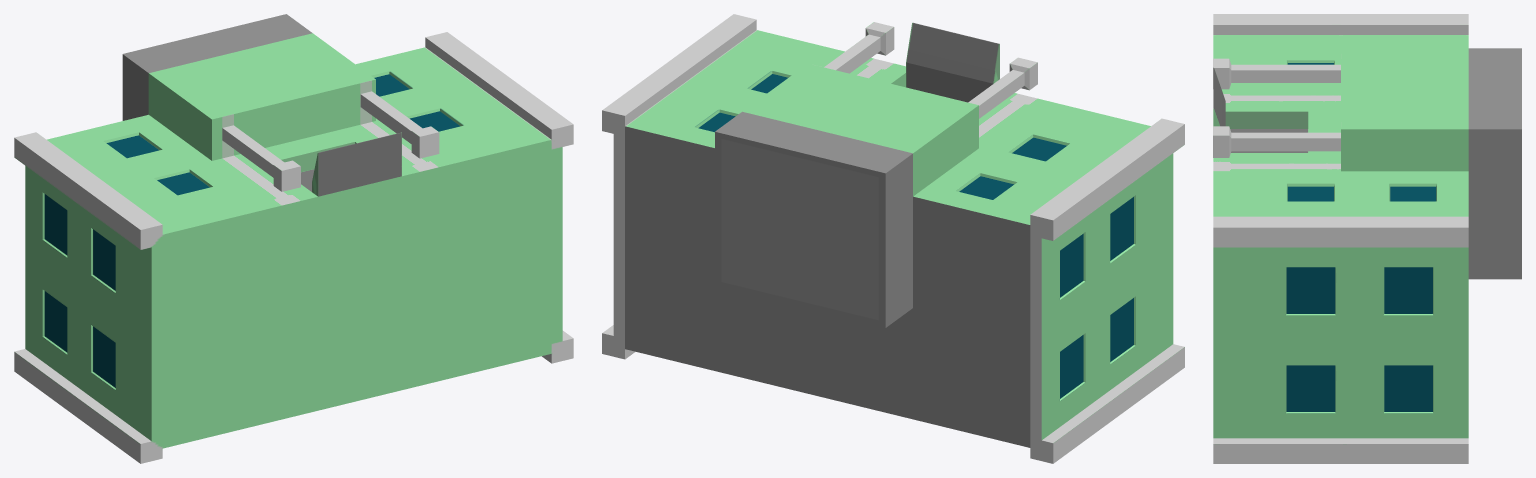
Rendered from hospital.fbx.
The picture shows the model from 3 angles, left to right: view 1: azimuth 30°, elevation 25°; view 2: azimuth 150°, elevation 25°; view 3: azimuth 270°, elevation 25°; orthographic projection. The views are drawn at different scales.
Visible parts, largest first — view 1: hospital; view 2: hospital; view 3: hospital.
Boxes of the visible parts, left/top/right/bottom form: hospital: left=14, top=14, right=573, bottom=463; hospital: left=602, top=14, right=1184, bottom=463; hospital: left=1213, top=14, right=1521, bottom=463.
Bounding box in the file's own units: 16.4 × 9.68 × 10.02.
